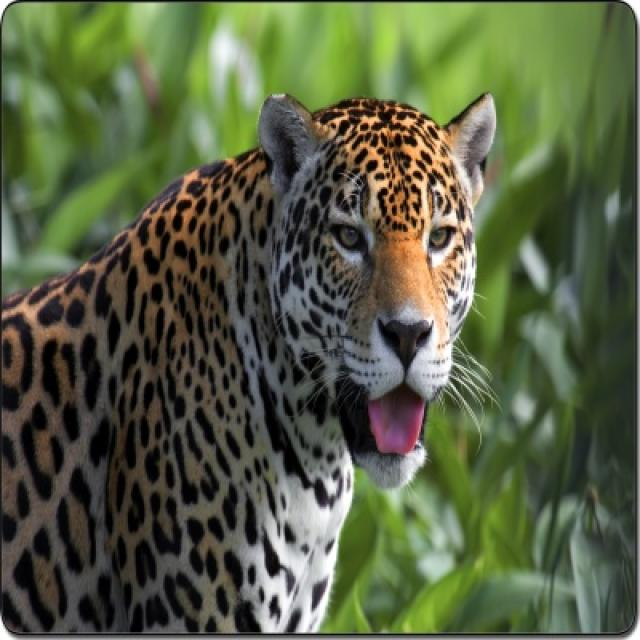Jaguar: (0, 94, 499, 638)
